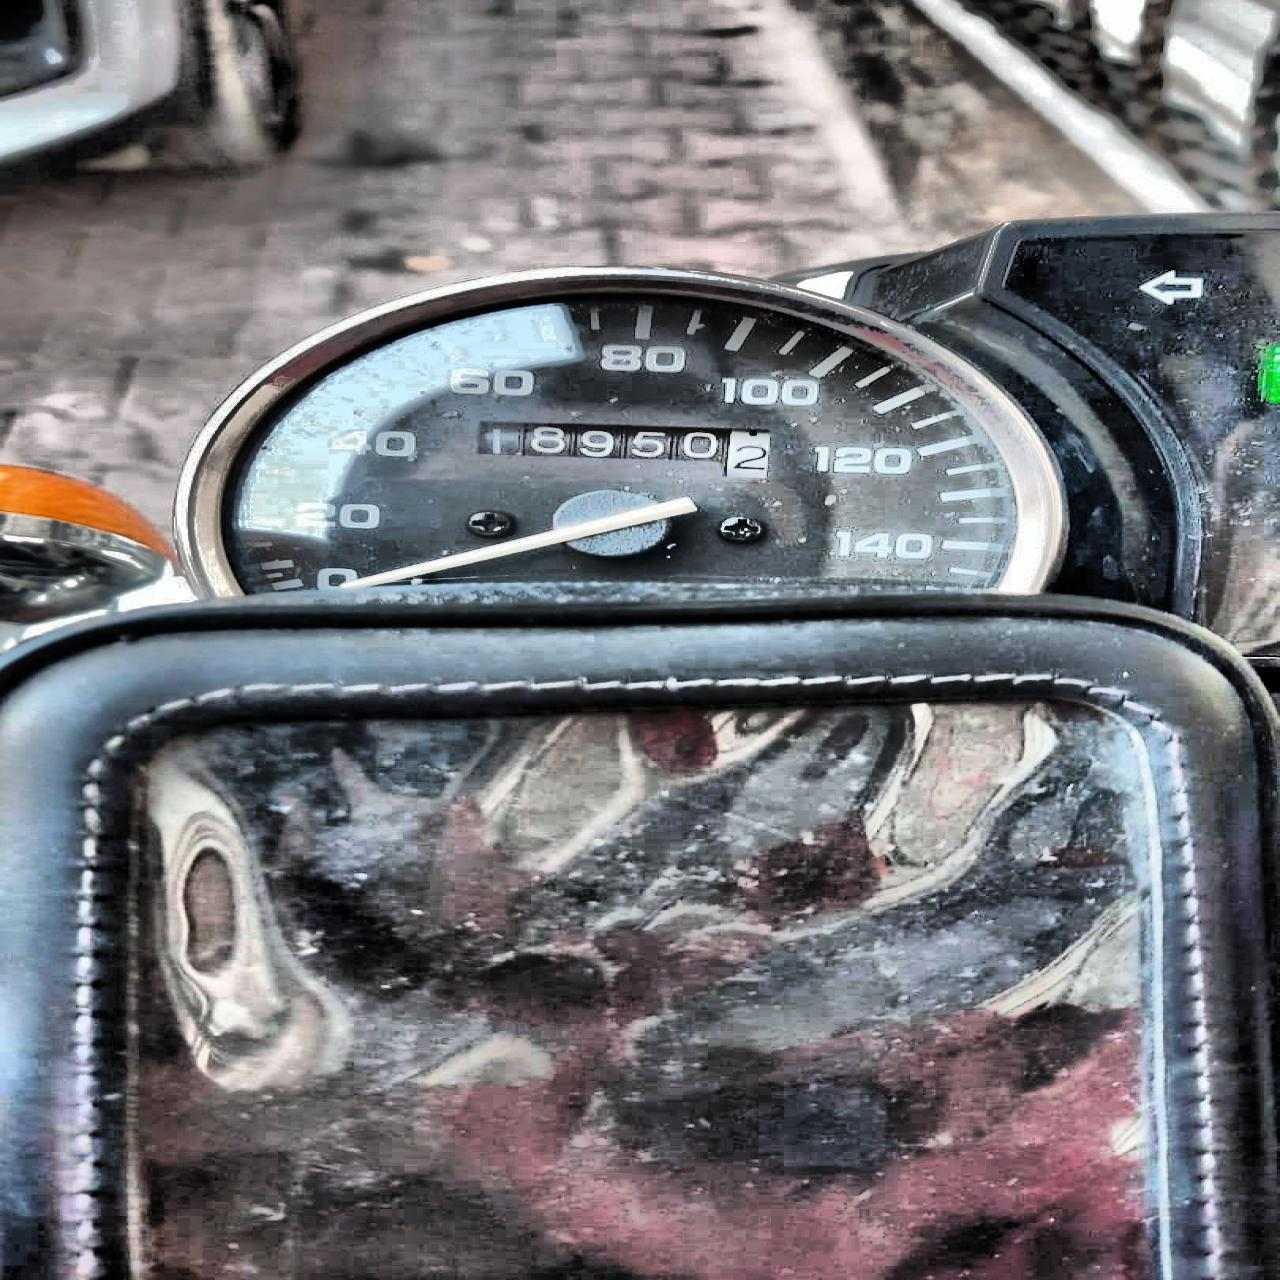0: (676, 430, 717, 459)
1: (481, 427, 505, 454)
2: (731, 442, 768, 471)
5: (628, 428, 666, 457)
8: (524, 425, 565, 454)
9: (577, 429, 618, 458)
odometer: (469, 418, 790, 481)
